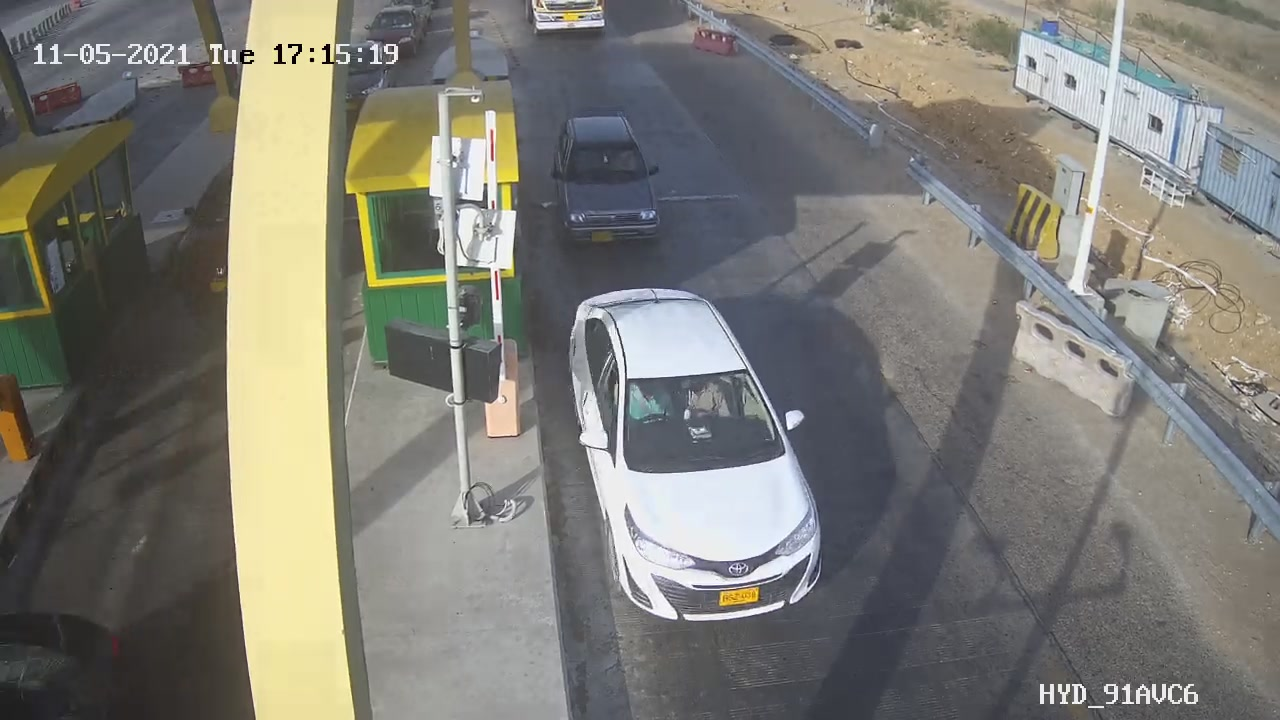F1: (537, 100, 685, 261)
